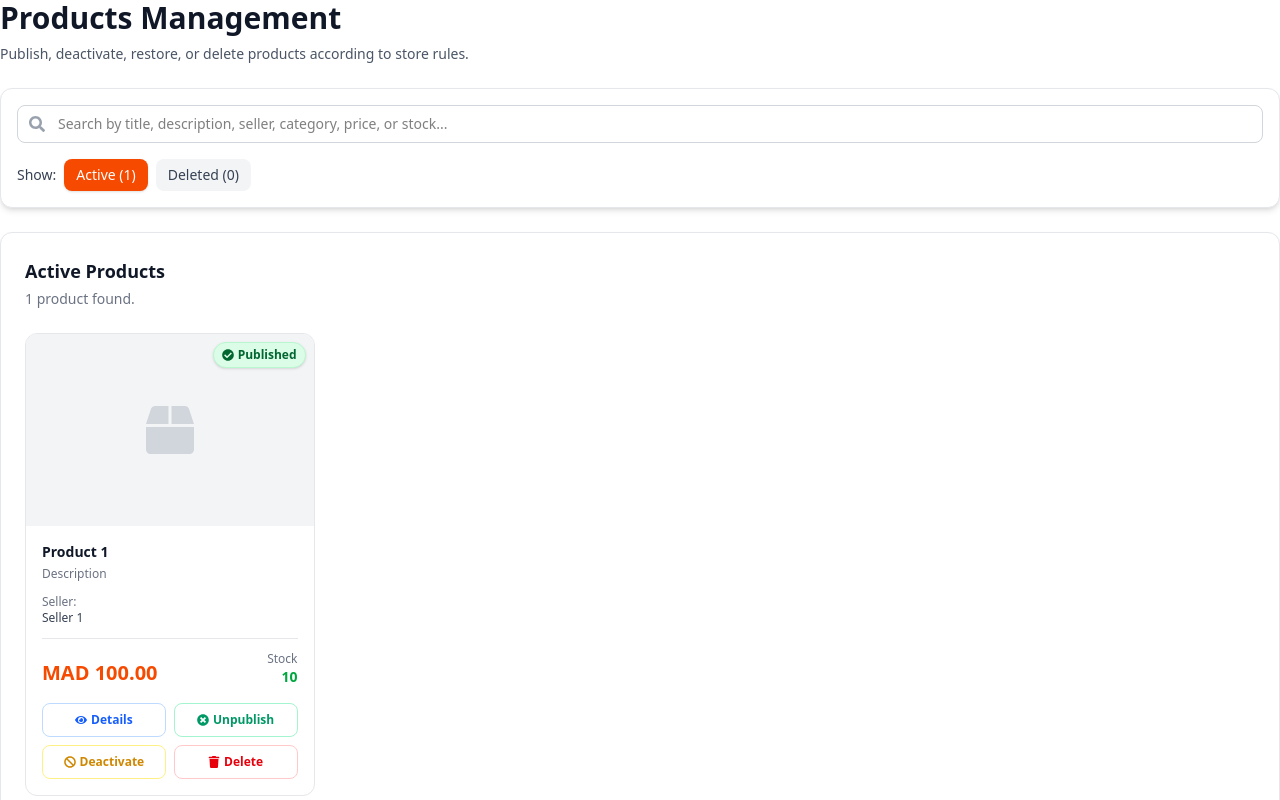
Test case: AdminProducts › opens product details modal
Step 1. Click the button "Details" → (104,720), box [42,703,166,737]
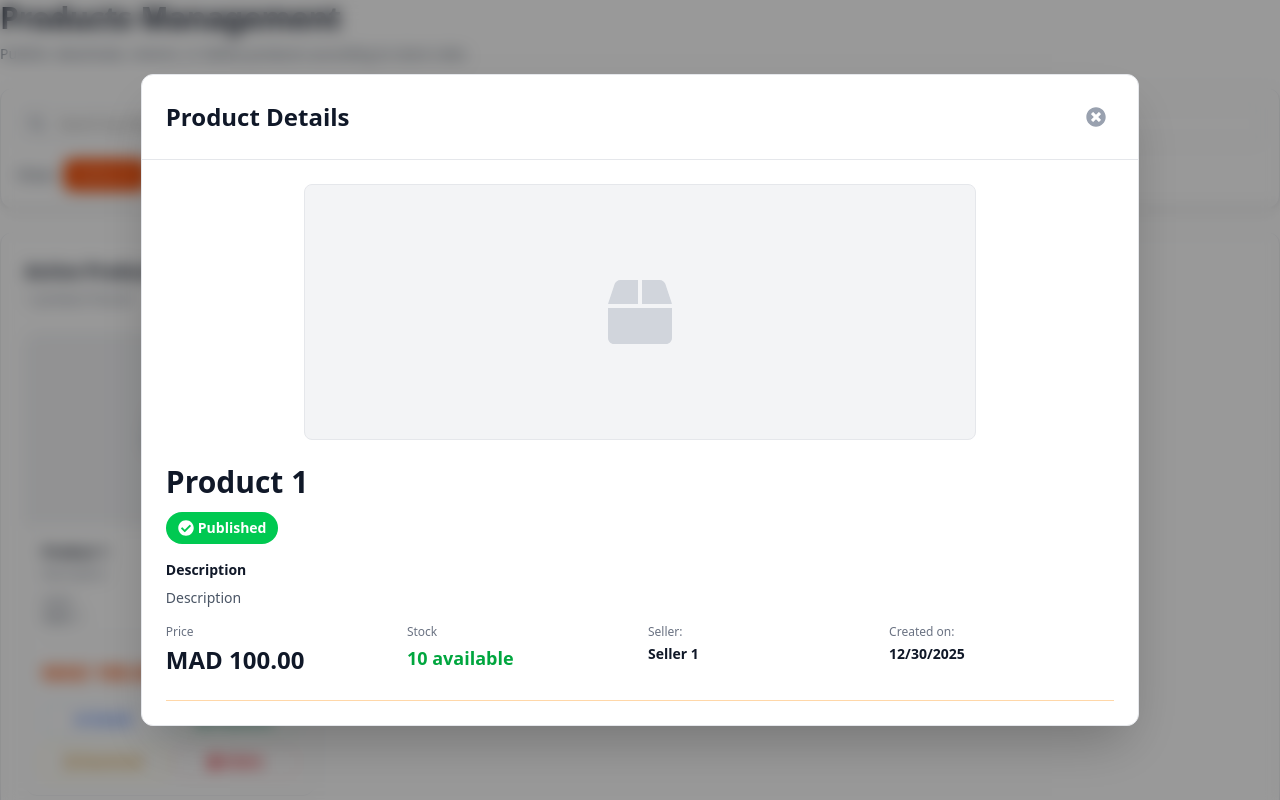
Expected: the heading "Product 1" below "found." is shown, [42,542,108,561]
Expected: the heading "Product Details" is shown, [166,101,350,133]
